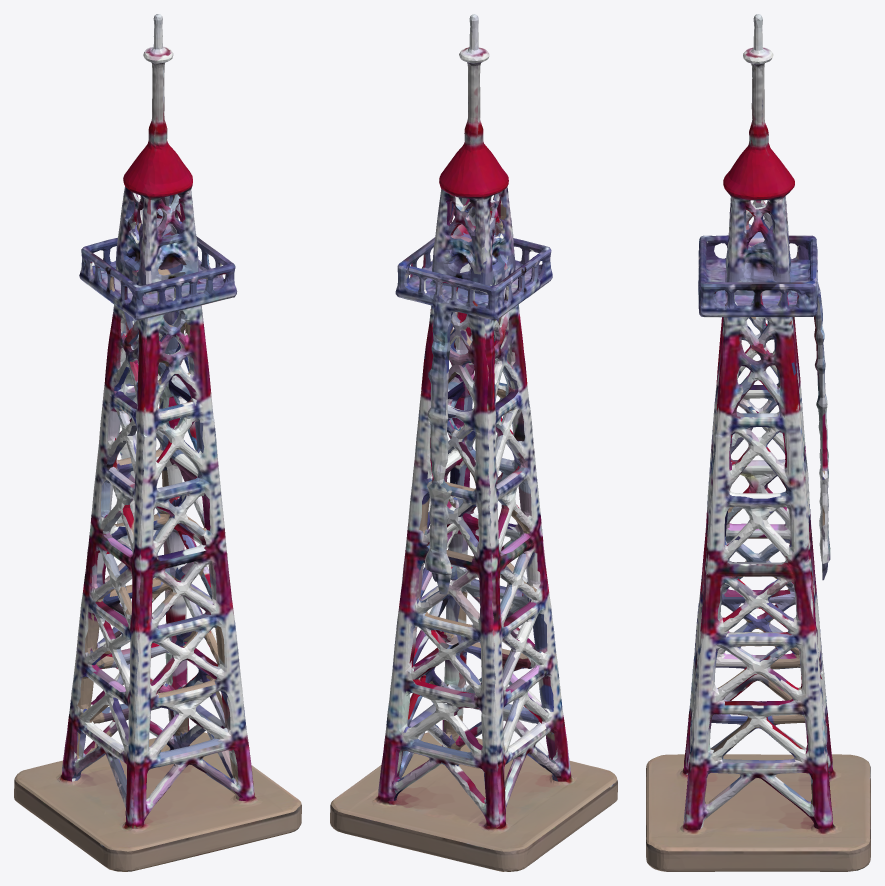
The model's file is launch_tower.glb.
3 views of the same model, side by side, from view 1: azimuth 30°, elevation 25°; view 2: azimuth 150°, elevation 25°; view 3: azimuth 270°, elevation 25° (orthographic).
Parts seen in each view (by area): view 1: tmpmqif5lm1.ply; view 2: tmpmqif5lm1.ply; view 3: tmpmqif5lm1.ply.
Part boxes in pixels (<box>): tmpmqif5lm1.ply: <box>14,14,301,871</box>; tmpmqif5lm1.ply: <box>330,14,617,871</box>; tmpmqif5lm1.ply: <box>646,14,870,871</box>.
Bounding box in the file's own units: 0.5093 × 1.99 × 0.5014.
Materials: 1 (1 with a texture image).
